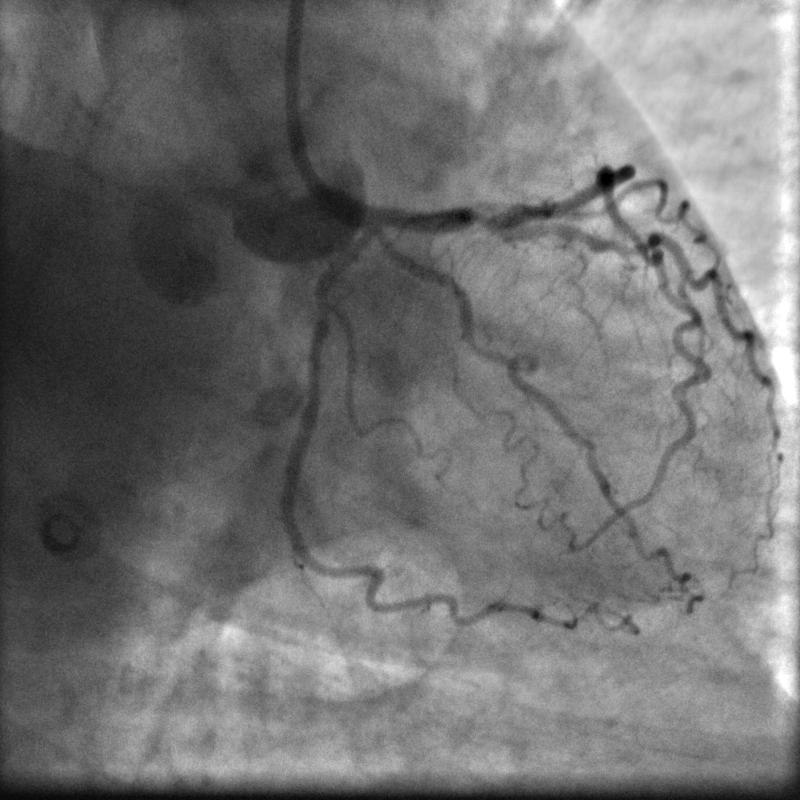Stenosis: (465, 203, 511, 244)
